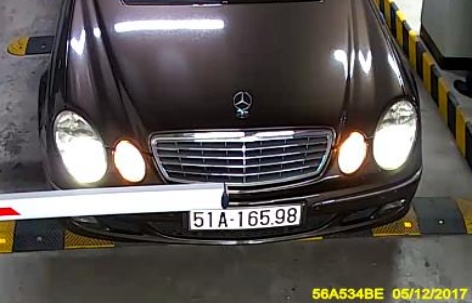plate: (189, 204, 304, 233)
